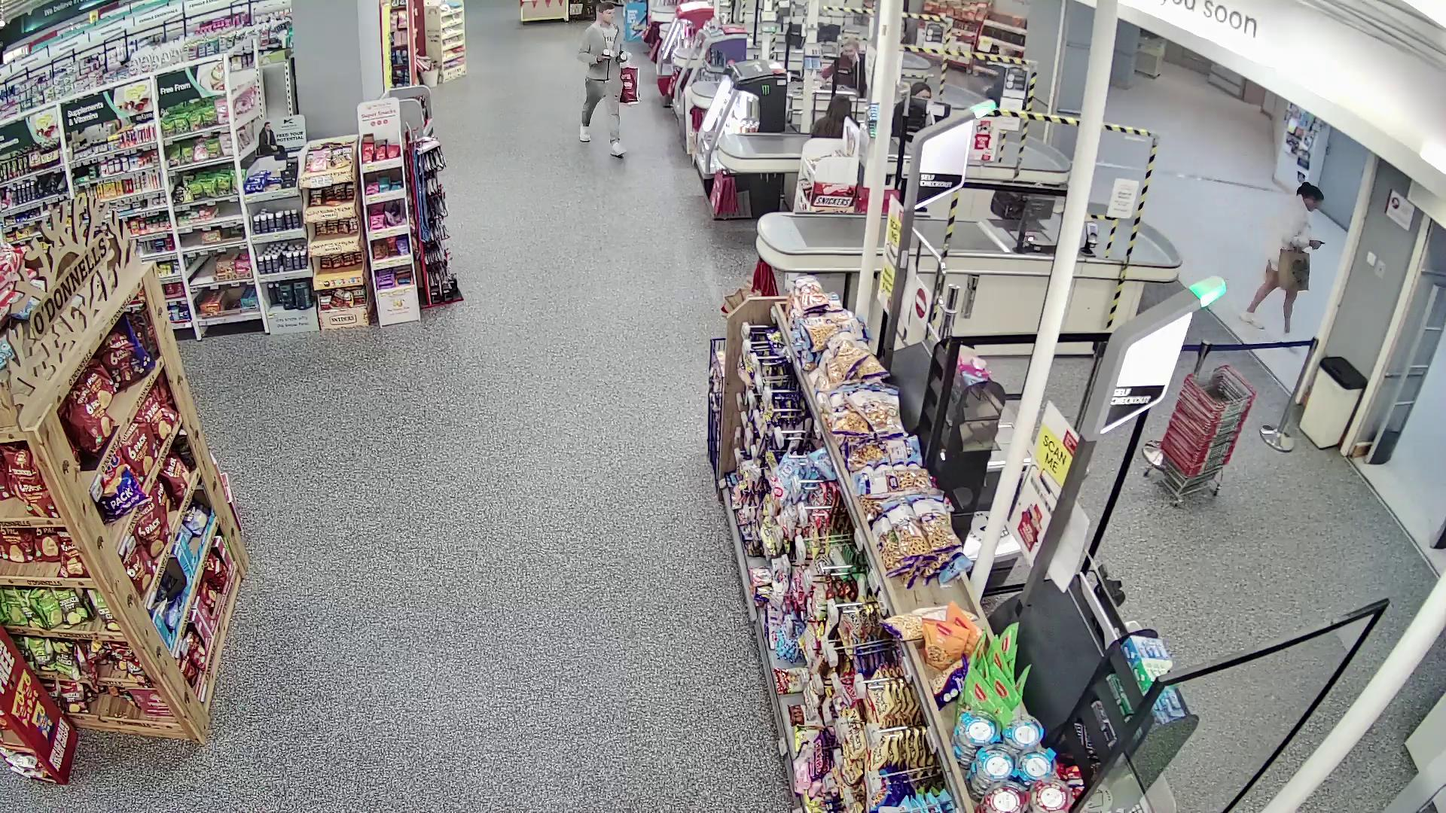carrying-item: (596, 47, 633, 64)
filled-shopping-bags: (620, 63, 641, 105)
person: (577, 2, 627, 157)
person with carrying item-s- and shopping bag-s-: (577, 3, 640, 157)
